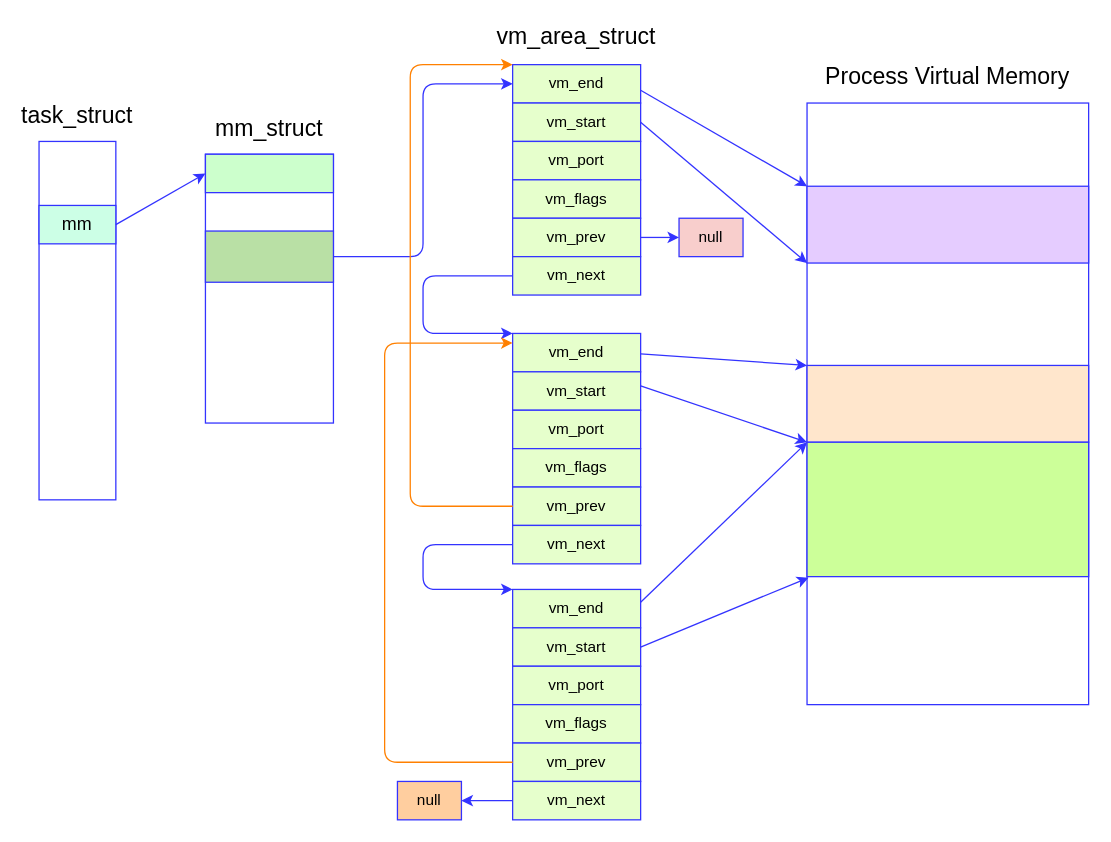
The diagram is 1111 pixels wide and 842 high, and some of its shapes have lost their labels. Here are the shapes that lost their labels. From the top down, the box of each, then its label:
(204, 153, 333, 193): pgd
(806, 185, 1089, 263): Shared Libraries
(204, 230, 333, 282): mmap
(806, 364, 1089, 442): Data
(806, 441, 1089, 577): Text
